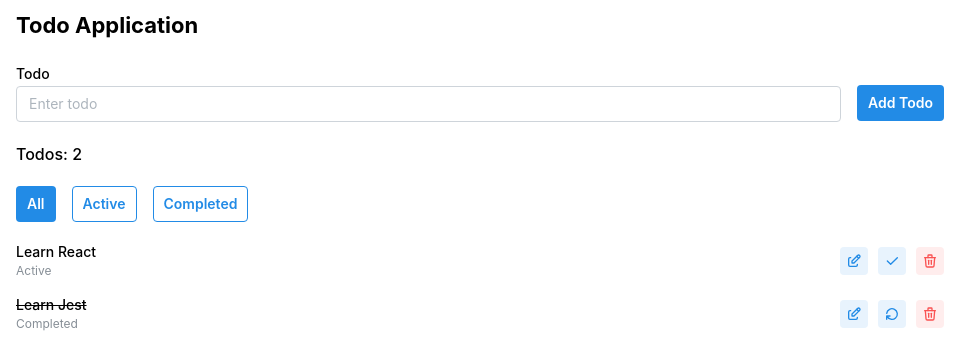
Test: Todo Application › filters active todos
Click the button "Active": (104, 204) [72,186,136,222]
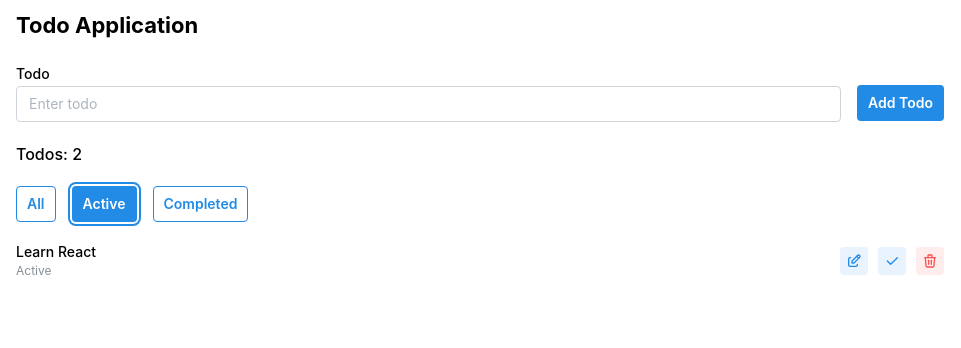
expect the text "Learn React" is shown: met, box [16,242,96,263]
expect the text "Learn Jest" is gone: met
